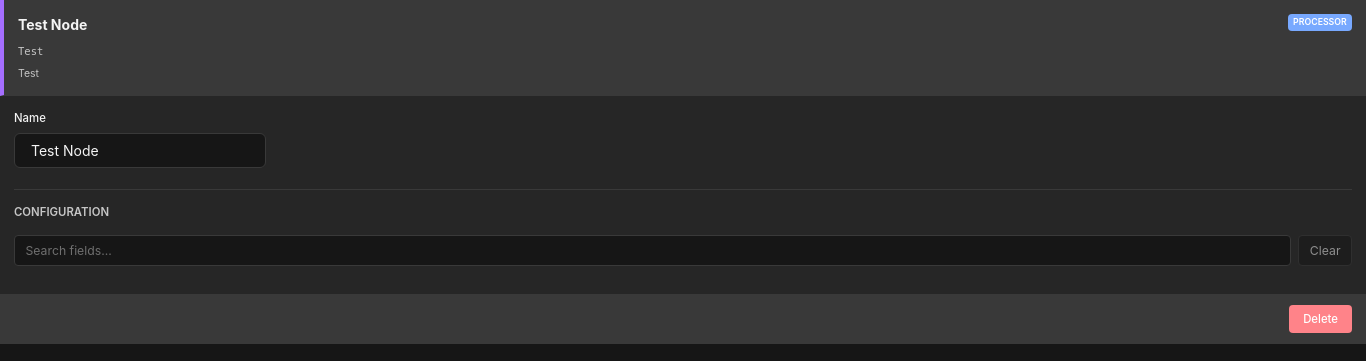
Test: PropertiesPanel - Existing Functionality Preserved › should still show delete confirmation dialog
Click the button with class "btn-danger" at (1321, 319), box [1289,305,1352,333]
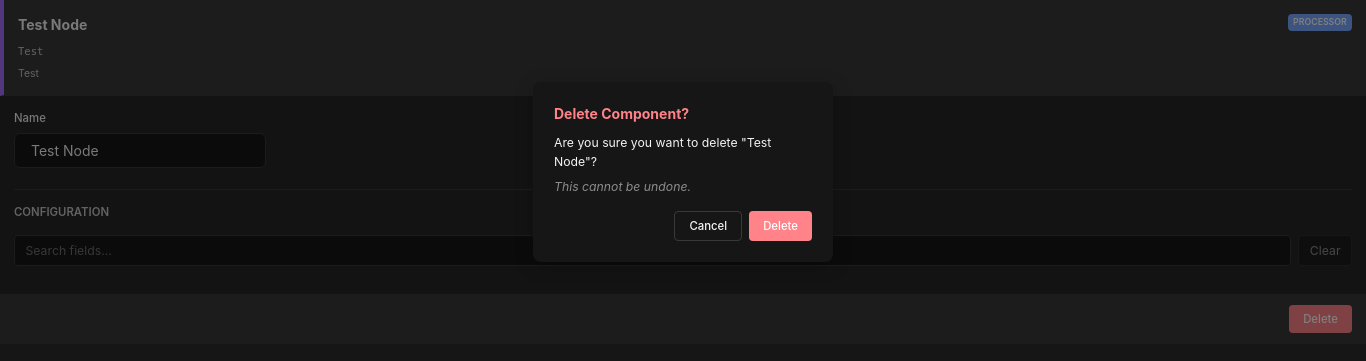
Result: the element with test id "delete-confirm" is shown
